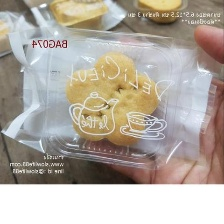snack: (0, 21, 221, 174)
